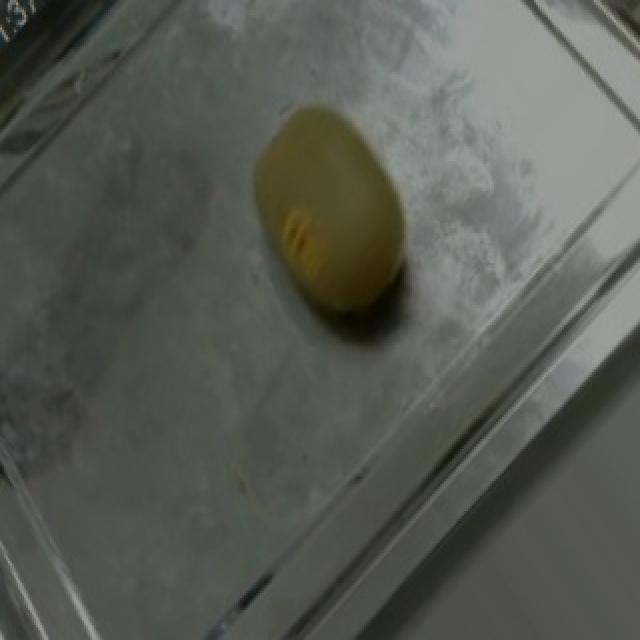Fruit: (214, 77, 448, 360)
